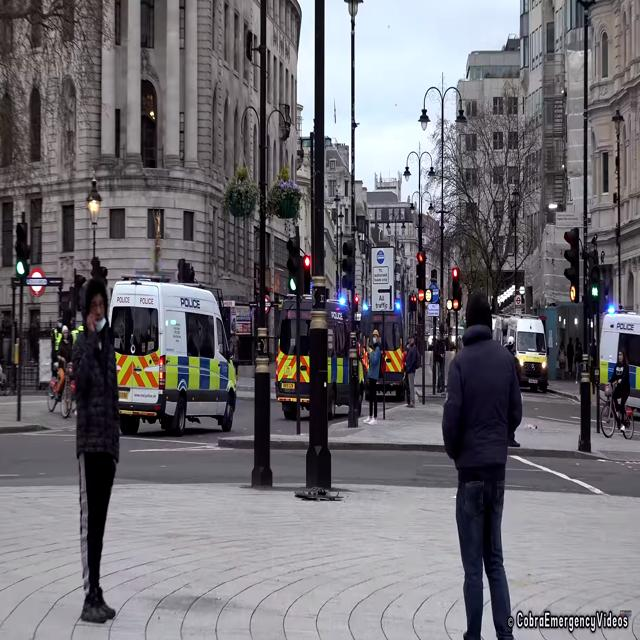emergency-vehicles: (106, 267, 259, 449), (274, 290, 366, 430), (359, 294, 415, 422), (584, 302, 640, 415), (508, 312, 559, 408)
